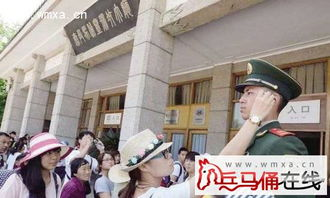10+: (1, 43, 313, 198)
